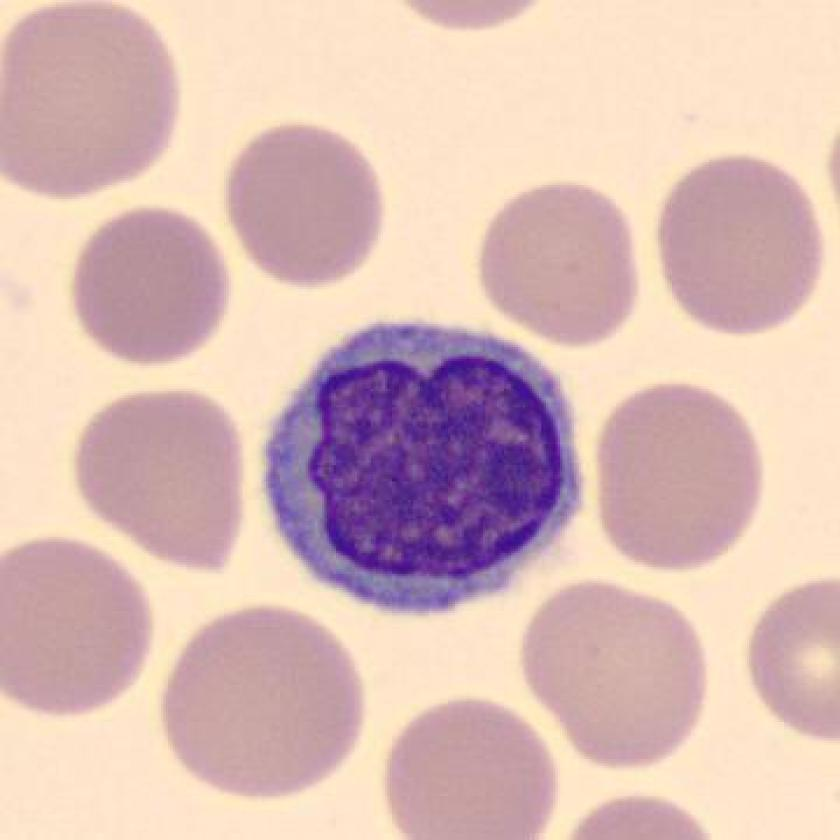lymphocyte: (249, 304, 606, 631)
